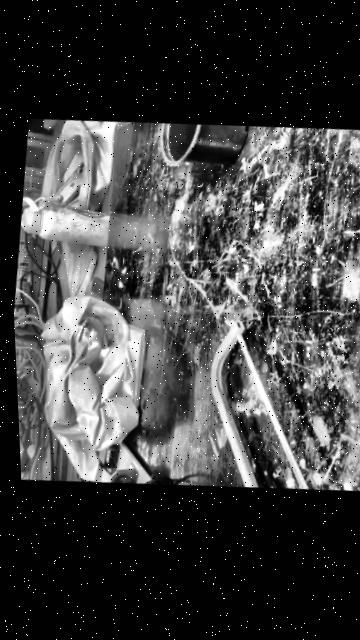pot: (156, 114, 251, 175)
